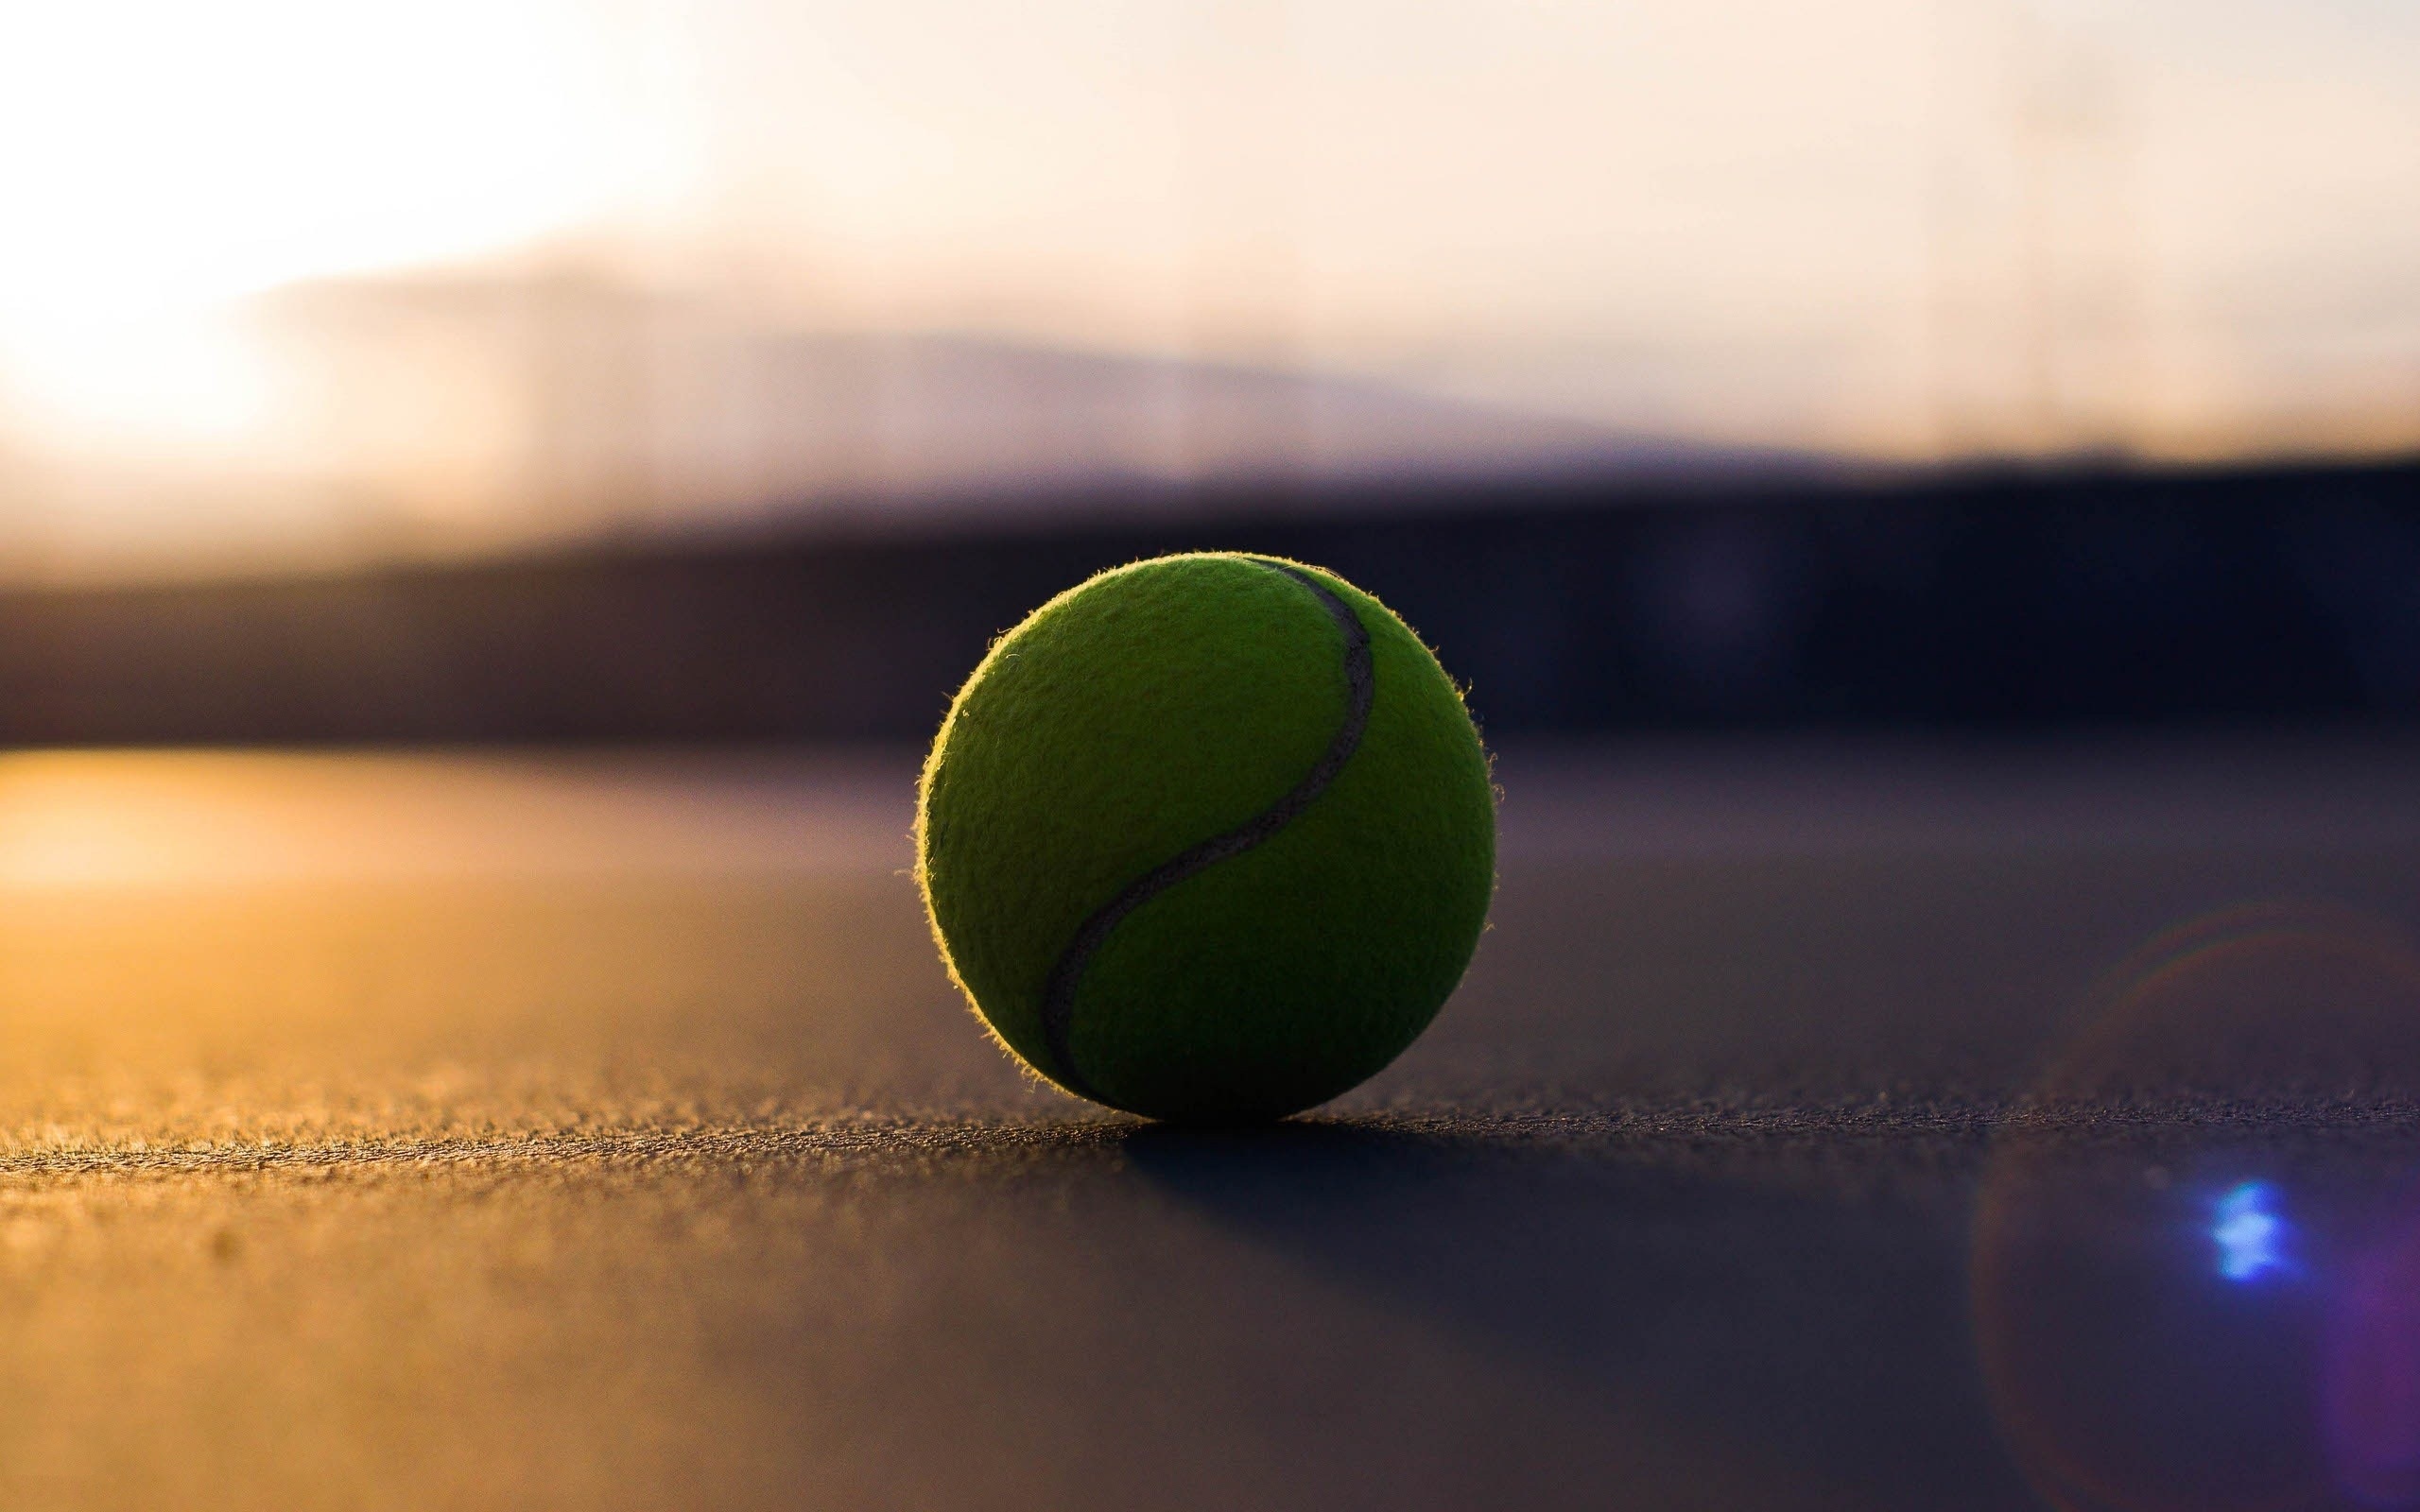tennis_ball: (908, 543, 1505, 1143)
